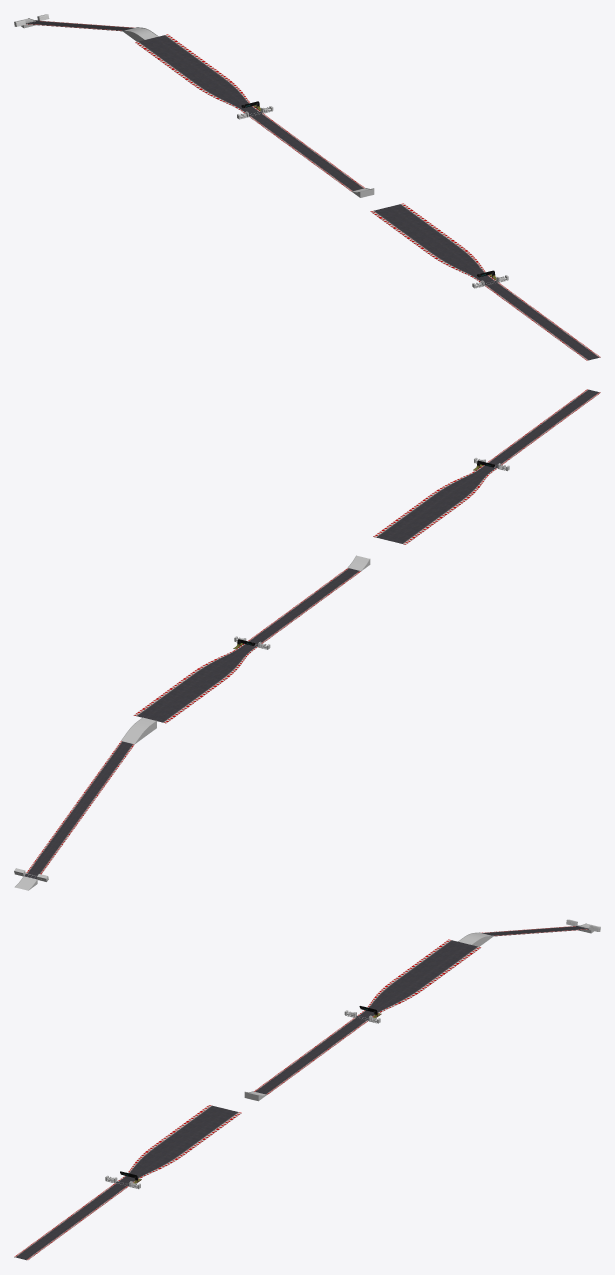
The model's file is Level 2.fbx.
3 renders of one model, top to bottom at view 1: azimuth 30°, elevation 25°; view 2: azimuth 150°, elevation 25°; view 3: azimuth 330°, elevation 25°, orthographic.
Parts seen in each view (by area): view 1: road; view 2: road; view 3: road.
Part boxes in pixels (bbox=[...]): road: bbox=[26, 20, 600, 360]; road: bbox=[26, 389, 600, 875]; road: bbox=[14, 926, 588, 1260].
Bounding box in the file's own units: 4604 × 10476 × 121259.
